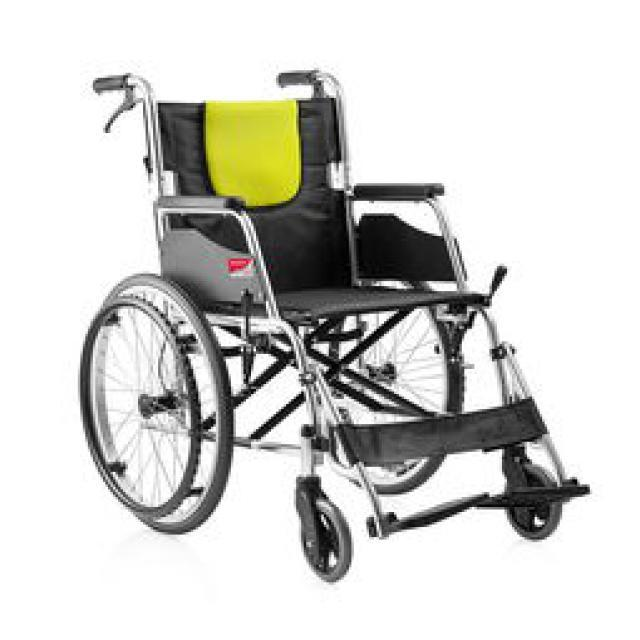wheelchair: (45, 58, 602, 570)
